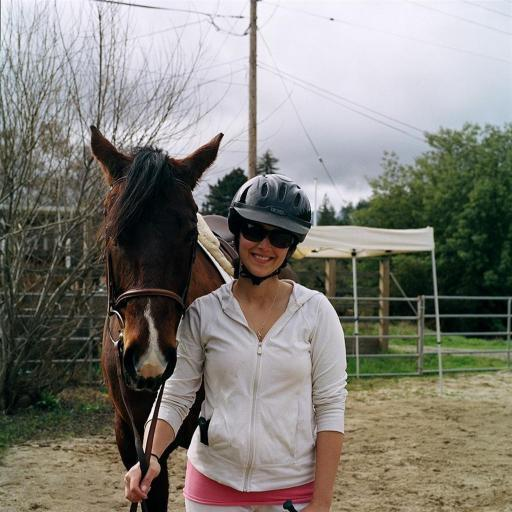horse: (88, 128, 302, 512)
